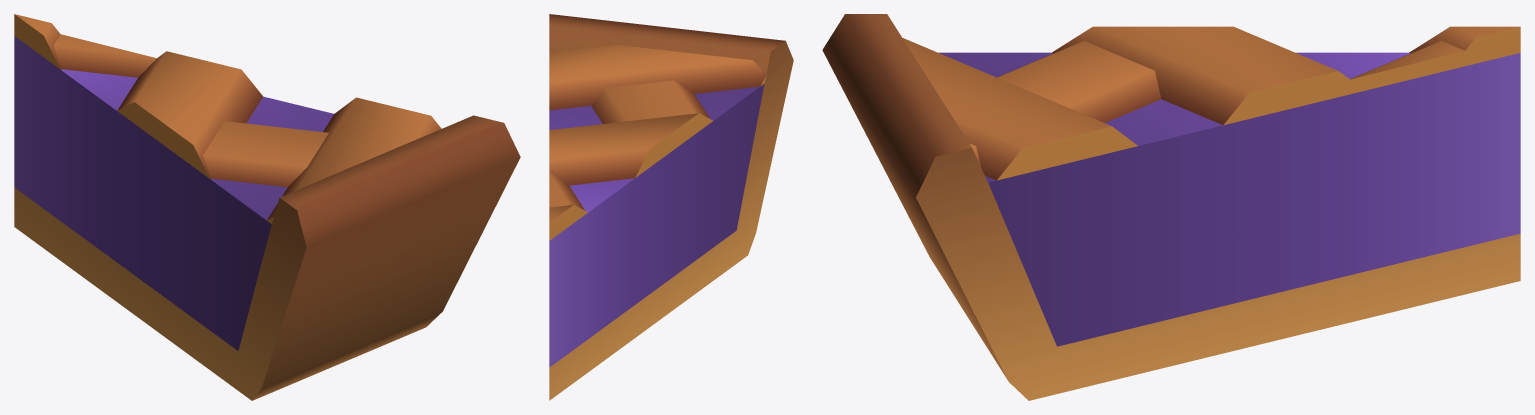
The model's file is m_AmericanPie03_Slice01.fbx.
3 views of the same model, side by side, from view 1: azimuth 30°, elevation 25°; view 2: azimuth 150°, elevation 25°; view 3: azimuth 270°, elevation 25° (orthographic). The views are drawn at different scales.
Visible parts, largest first — view 1: m_AmericanPie03_Slice01; view 2: m_AmericanPie03_Slice01; view 3: m_AmericanPie03_Slice01.
Boxes of the visible parts, x1,y1,x2,y2 form: m_AmericanPie03_Slice01: [14, 14, 520, 400]; m_AmericanPie03_Slice01: [549, 14, 793, 400]; m_AmericanPie03_Slice01: [822, 14, 1520, 400].
Size of the model in its own units: 7 by 5.91 by 14.
